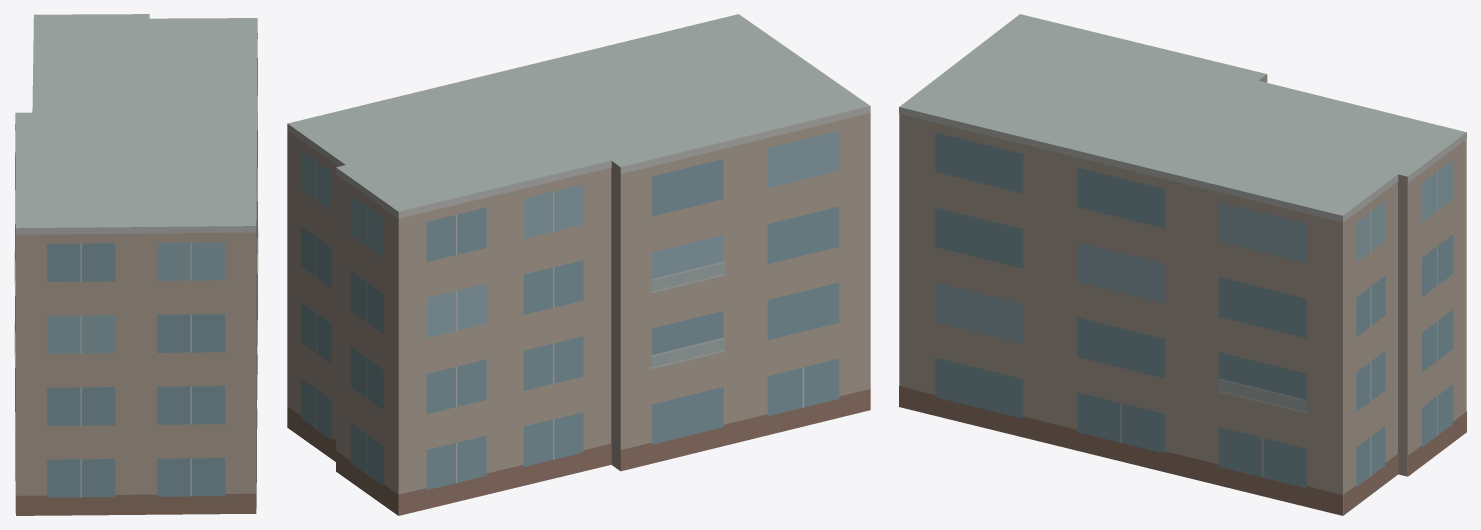
Rendered from survey-upis-32783120.glb.
3 renders of one model, left to right at view 1: azimuth 30°, elevation 25°; view 2: azimuth 150°, elevation 25°; view 3: azimuth 270°, elevation 25°, orthographic. The views are drawn at different scales.
Parts seen in each view (by area): view 1: survey-upis-32783120.tmp; view 2: survey-upis-32783120.tmp; view 3: survey-upis-32783120.tmp.
Part boxes in pixels (box(x1,y1,x2,y2)): survey-upis-32783120.tmp: box(14, 14, 258, 515); survey-upis-32783120.tmp: box(287, 14, 870, 515); survey-upis-32783120.tmp: box(899, 14, 1466, 515).
Bounding box in the file's own units: 15.58 × 10.79 × 18.51.
